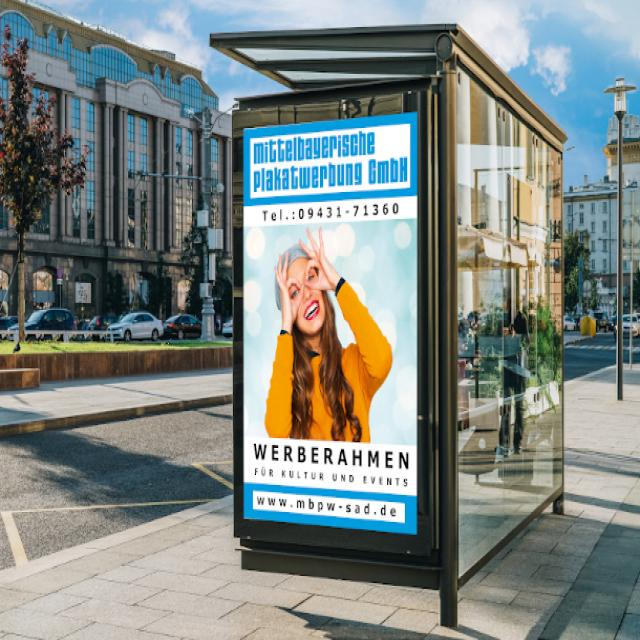Werbetafel frei: (230, 91, 438, 571)
